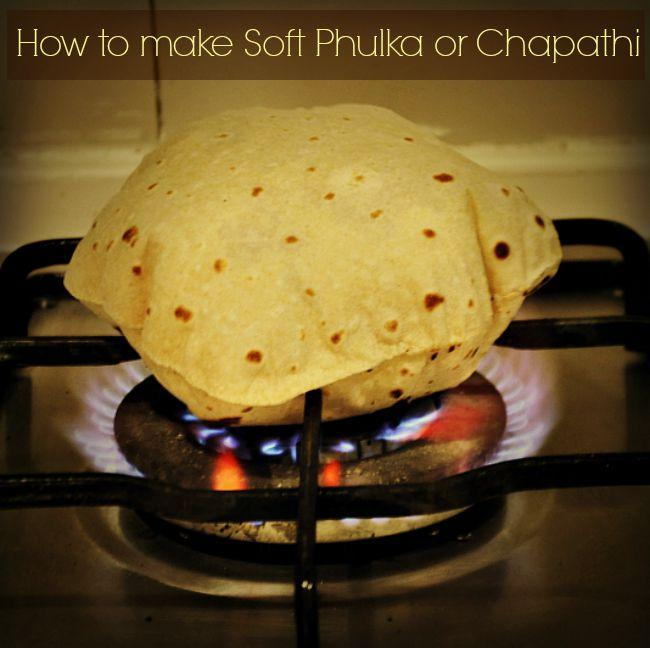chapati: (65, 105, 561, 424)
